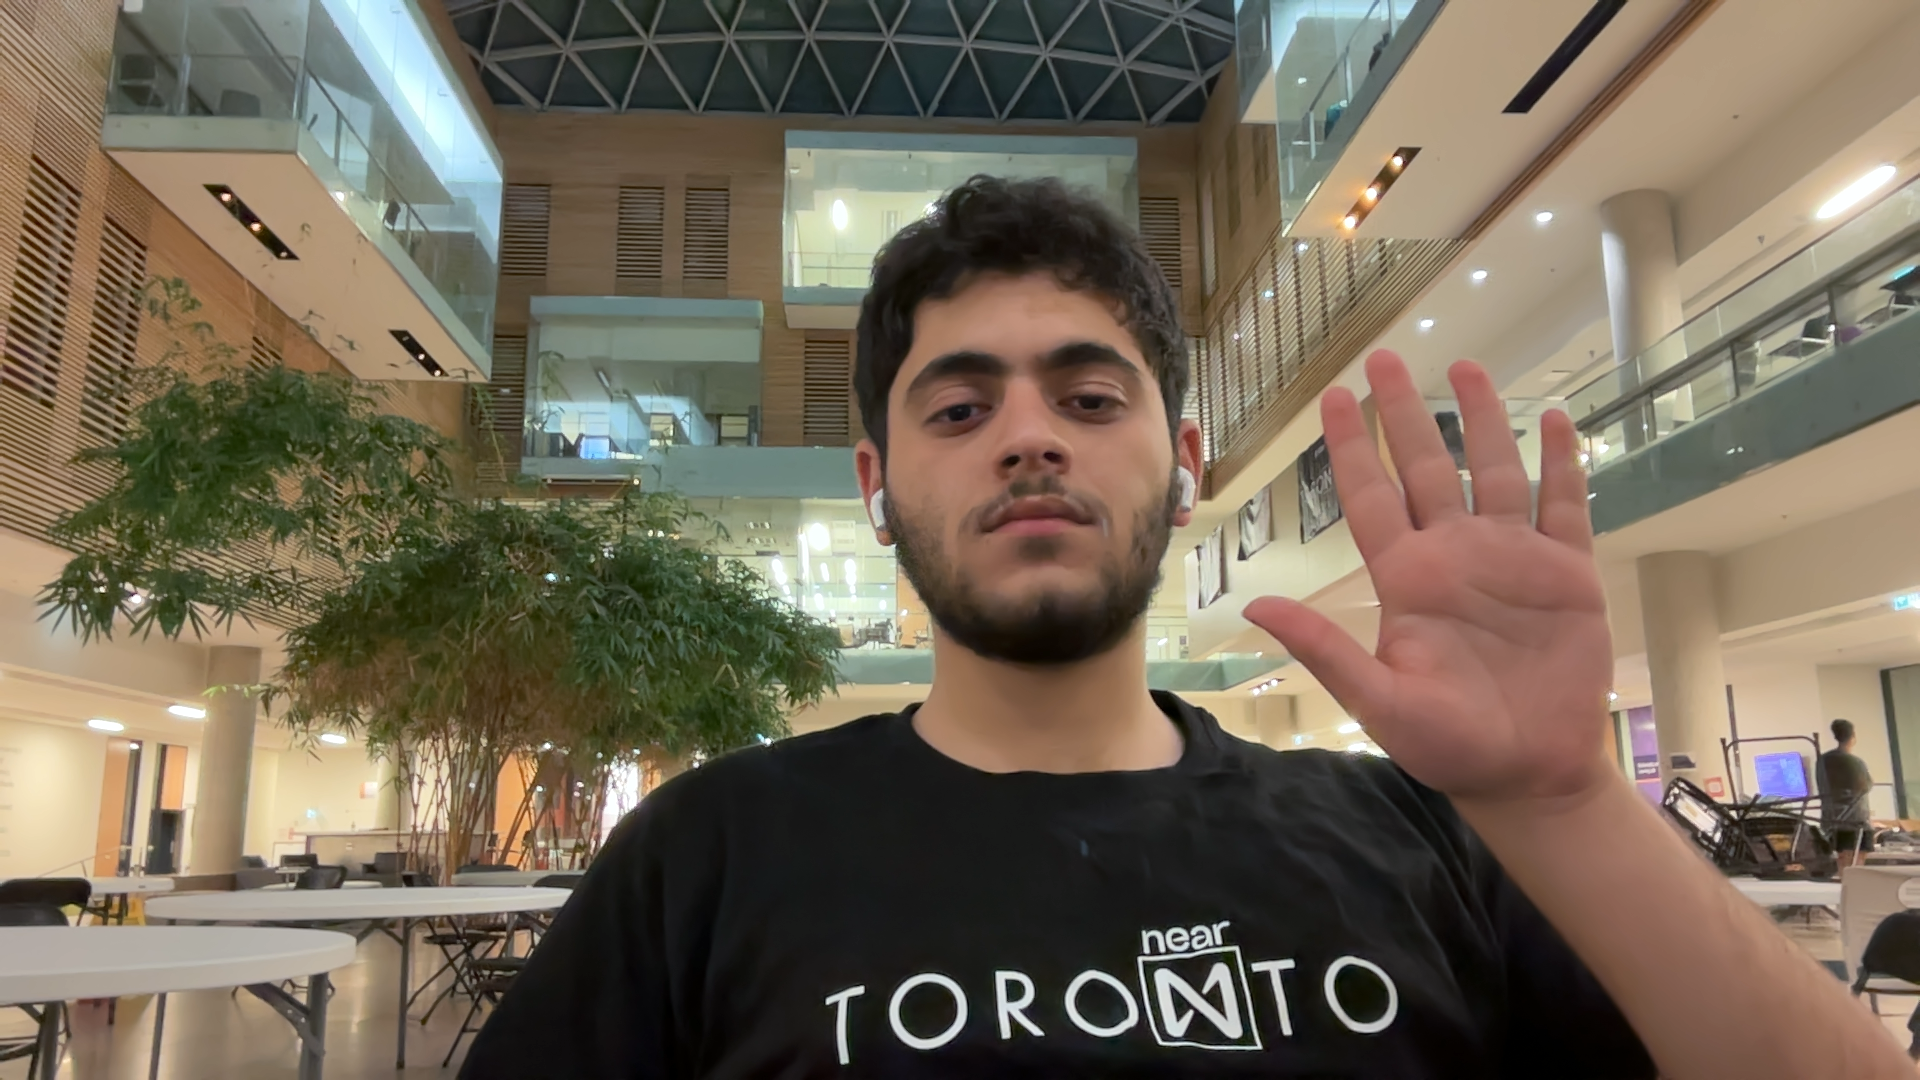Hello: (1234, 319, 1656, 808)
